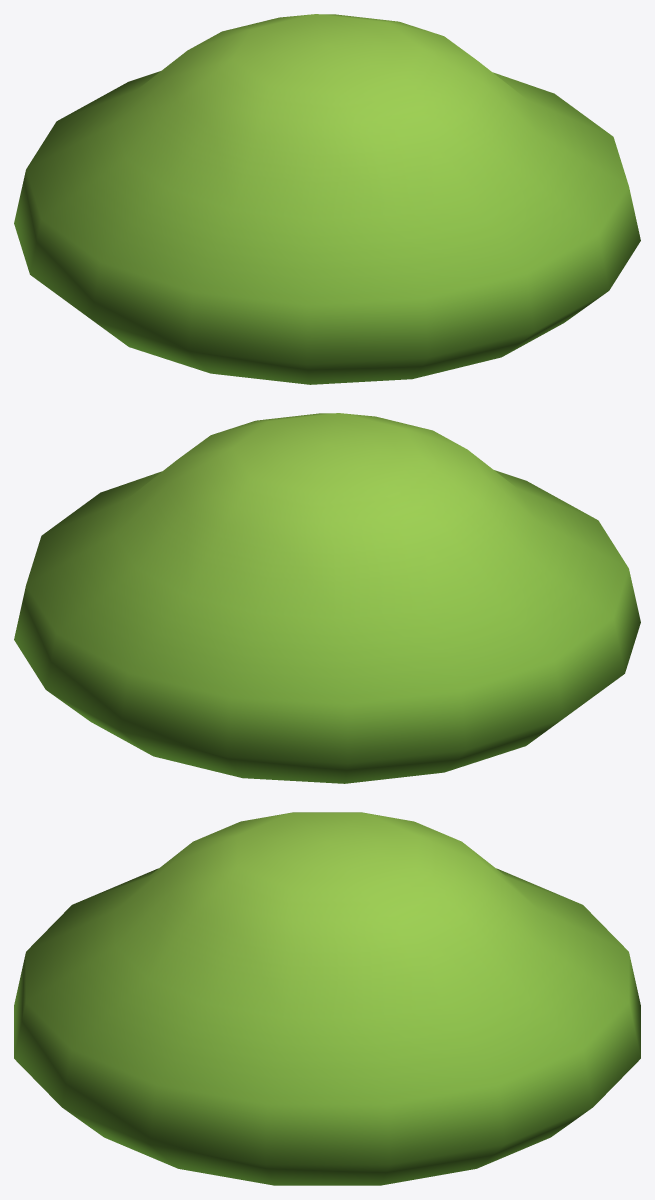
File: Bush_3_A_Color3.fbx
3 renders of one model, top to bottom at view 1: azimuth 30°, elevation 25°; view 2: azimuth 150°, elevation 25°; view 3: azimuth 270°, elevation 25°, orthographic.
Parts seen in each view (by area): view 1: Bush_3_A_Color3; view 2: Bush_3_A_Color3; view 3: Bush_3_A_Color3.
Part boxes in pixels (left/top/right/bottom): Bush_3_A_Color3: left=14, top=14, right=640, bottom=384; Bush_3_A_Color3: left=14, top=413, right=640, bottom=783; Bush_3_A_Color3: left=14, top=812, right=640, bottom=1185.
Bounding box in the file's own units: 1.03 × 0.4853 × 1.03.
